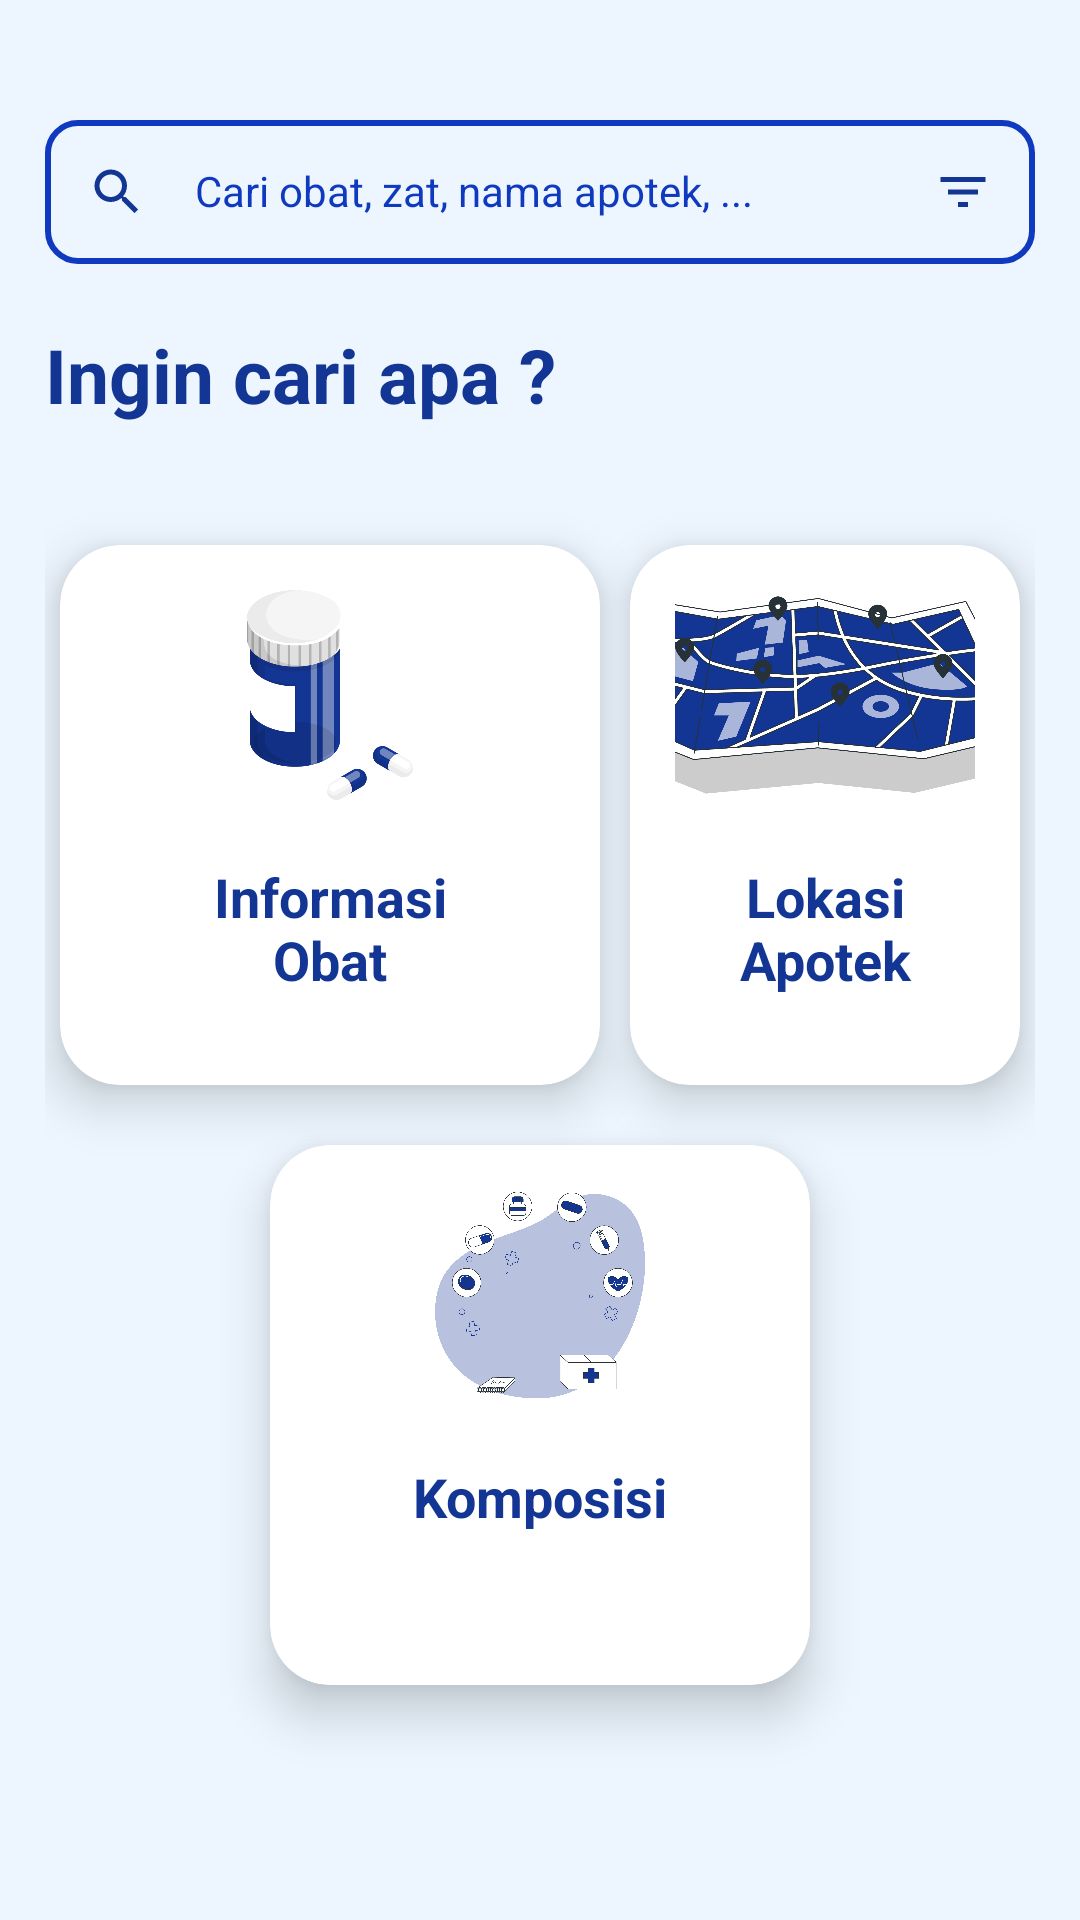

Icons on this 1080x1920 Android screen, each with the point to tap as (x=x, y=y):
filter list: (x=963, y=192)
location search: (x=825, y=695)
search: (x=116, y=191)
